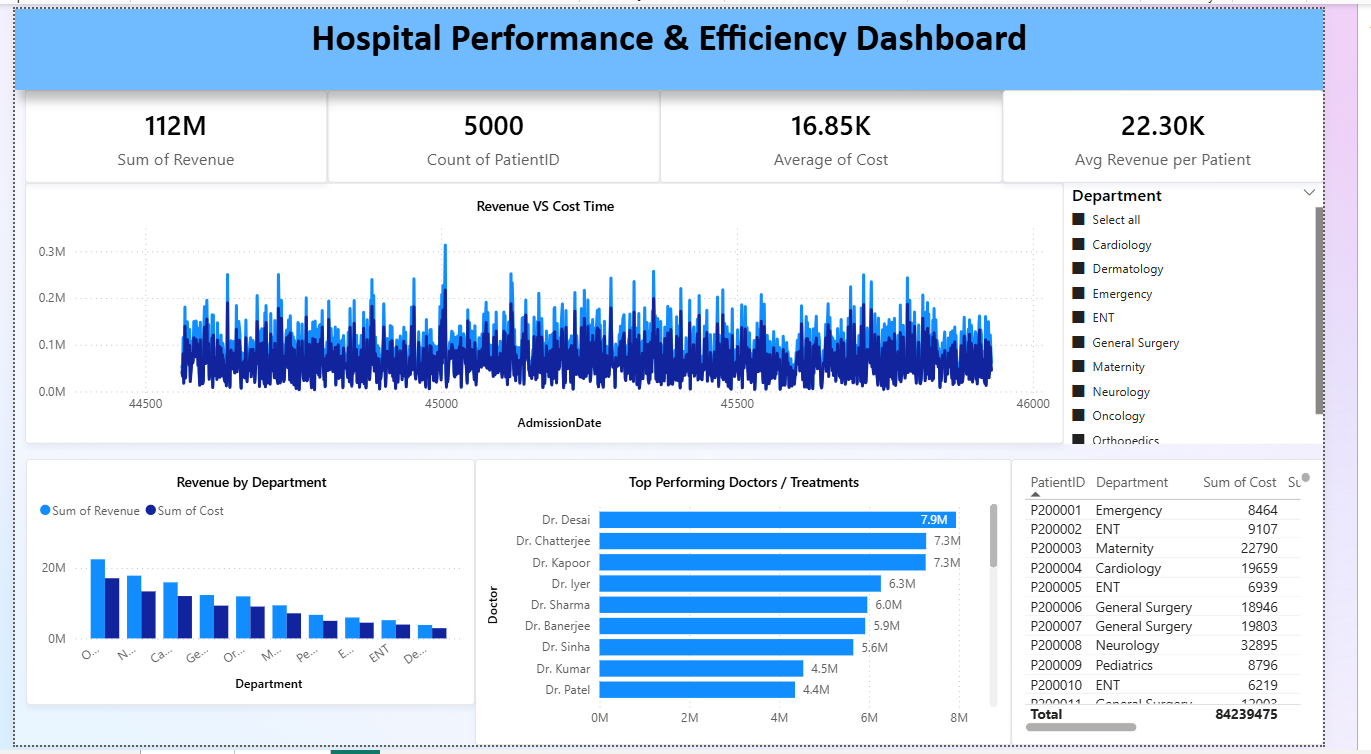

This screenshot's page, from the dashboard's own definition file:
{"tool":"powerbi","page":{"name":"Page 1","canvas":[1280,720],"ordinal":0},"visuals":[{"type":"clusteredColumnChart","title":"Revenue by Department","fields":{"Y":["Sheet1.Revenue","Sheet1.Cost"],"Category":["Sheet1.Department"]},"box":[11,440.2,439,240.9],"z":0},{"type":"card","fields":{"Values":["Sheet1.PatientID"]},"box":[305.7,79.5,325.3,90.5],"z":2000},{"type":"card","fields":{"Values":["Sheet1.Cost"]},"box":[631,79.5,335.1,90.5],"z":3000},{"type":"lineChart","title":"Revenue VS Cost Time","fields":{"Y":["Sheet1.Revenue","Sheet1.Cost"],"Category":["Sheet1.AdmissionDate"]},"box":[9.8,170,1016.2,255.6],"z":4000},{"type":"card","fields":{"Values":["Sheet1.Revenue"]},"box":[9.8,79.5,295.9,90.5],"z":5000},{"type":"clusteredBarChart","title":"Top Performing Doctors / Treatments","fields":{"Category":["Sheet1.Doctor"],"Y":["Sheet1.Revenue"]},"box":[450,440.2,524.6,280],"z":6000},{"type":"slicer","fields":{"Values":["Sheet1.Department"]},"box":[1026,170,254.3,255.6],"z":7000},{"type":"tableEx","fields":{"Values":["Sheet1.PatientID","Sheet1.Department","Sheet1.Cost","Sheet1.AdmissionDate","Sheet1.Revenue","Sheet1.Doctor","Sheet1.Outcome"]},"box":[974.6,440.2,305.7,280],"z":8000},{"type":"actionButton","box":[0,0,100,40],"z":9000},{"type":"textbox","box":[0,0,1280.3,79.5],"z":9001},{"type":"card","fields":{"Values":["Sheet1.Avg Revenue per Patient"]},"box":[966,79.5,314.3,90.5],"z":9003}]}

Visuals, with their boxes in screenshot pixels (x1, y1, x2, y2), scaled from the page's 1280x720 canvas onto the 1371x754 screenshot:
"Revenue by Department" clusteredColumnChart: <bbox>12, 461, 482, 713</bbox>
card - Sheet1.PatientID: <bbox>327, 83, 676, 178</bbox>
card - Sheet1.Cost: <bbox>676, 83, 1035, 178</bbox>
"Revenue VS Cost Time" lineChart: <bbox>10, 178, 1099, 446</bbox>
card - Sheet1.Revenue: <bbox>10, 83, 327, 178</bbox>
"Top Performing Doctors / Treatments" clusteredBarChart: <bbox>482, 461, 1044, 753</bbox>
slicer - Sheet1.Department: <bbox>1099, 178, 1370, 446</bbox>
tableEx - Sheet1.PatientID x Sheet1.Department: <bbox>1044, 461, 1370, 753</bbox>
actionButton: <bbox>0, 0, 107, 42</bbox>
textbox: <bbox>0, 0, 1370, 83</bbox>
card - Sheet1.Avg Revenue per Patient: <bbox>1035, 83, 1370, 178</bbox>
